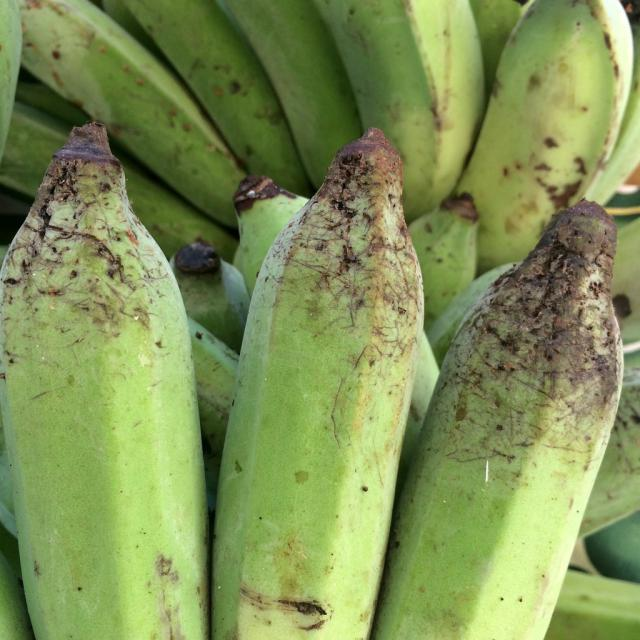Banana: (0, 0, 639, 639), (212, 128, 380, 640)
